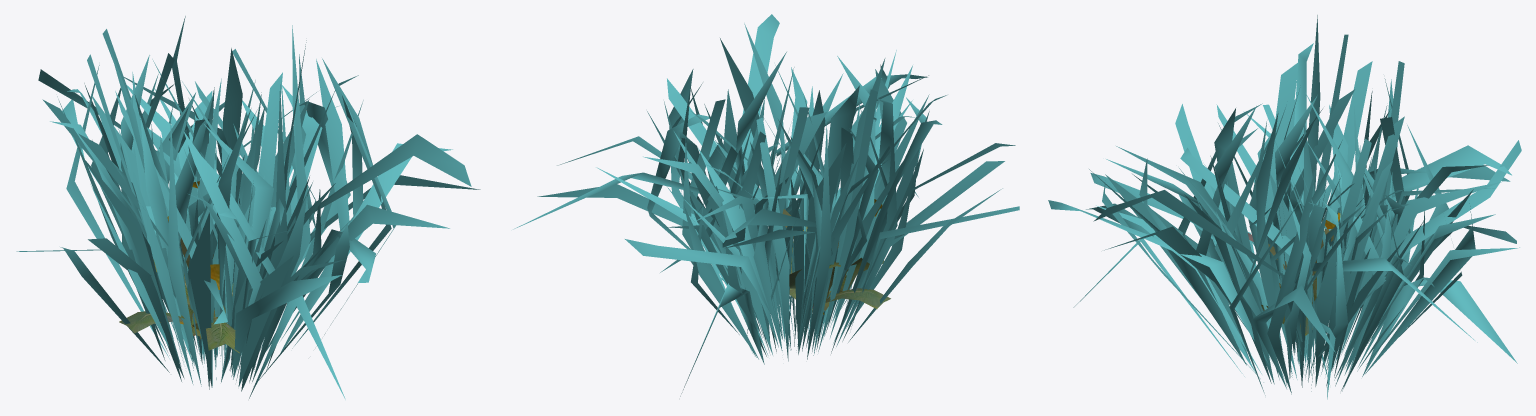
The model's file is grass-tufts.glb.
3 renders of one model, left to right at view 1: azimuth 30°, elevation 25°; view 2: azimuth 150°, elevation 25°; view 3: azimuth 270°, elevation 25°, orthographic. The views are drawn at different scales.
Parts seen in each view (by area): view 1: __tuft_clump, __tuft_dandelion; view 2: __tuft_clump, __tuft_dandelion; view 3: __tuft_clump, __tuft_dandelion.
Boxes of the visible parts, box(x1,y1,x2,y2) form: __tuft_clump: box(16, 16, 480, 399); __tuft_dandelion: box(119, 181, 239, 353); __tuft_clump: box(513, 14, 1019, 396); __tuft_dandelion: box(782, 199, 890, 314); __tuft_clump: box(1048, 15, 1521, 399); __tuft_dandelion: box(1248, 212, 1340, 335).
Bounding box in the file's own units: 3.33 × 2.28 × 3.02.
Materials: 2 (1 with a texture image).
